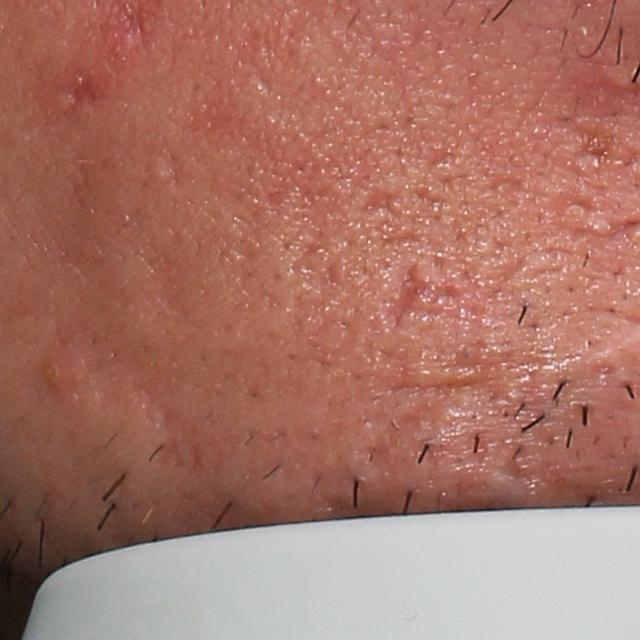atrophic_scar: (386, 262, 444, 333), (49, 65, 109, 119), (569, 118, 624, 168), (158, 141, 195, 196), (357, 186, 402, 219), (553, 190, 602, 217), (375, 228, 424, 249)
